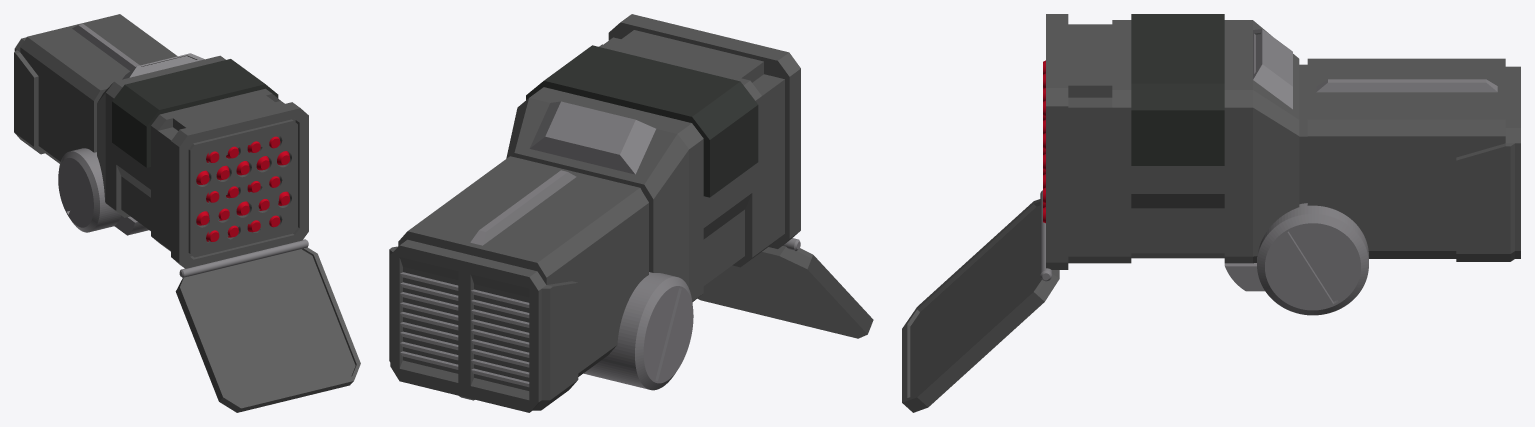
The model's file is MissleBox_001.fbx.
The picture shows the model from 3 angles, left to right: view 1: azimuth 30°, elevation 25°; view 2: azimuth 150°, elevation 25°; view 3: azimuth 270°, elevation 25°; orthographic projection. The views are drawn at different scales.
Visible parts, largest first — view 1: Cylinder, Cylinder.002, Cylinder.001, Circle.001; view 2: Cylinder, Cylinder.002, Cylinder.001, Cube; view 3: Cylinder, Cylinder.002, Cylinder.001.
Part boxes in pixels (bbox=[...]): Cylinder: bbox=[14, 14, 308, 268]; Cylinder.002: bbox=[175, 239, 360, 412]; Cylinder.001: bbox=[58, 148, 148, 235]; Circle.001: bbox=[196, 136, 289, 241]; Cylinder: bbox=[389, 14, 800, 412]; Cylinder.002: bbox=[697, 238, 873, 338]; Cylinder.001: bbox=[583, 272, 693, 390]; Cube: bbox=[400, 272, 529, 387]; Cylinder: bbox=[1046, 14, 1520, 269]; Cylinder.002: bbox=[902, 190, 1059, 412]; Cylinder.001: bbox=[1224, 203, 1368, 315].
Bounding box in the file's own units: 95.25 × 161 × 275.
